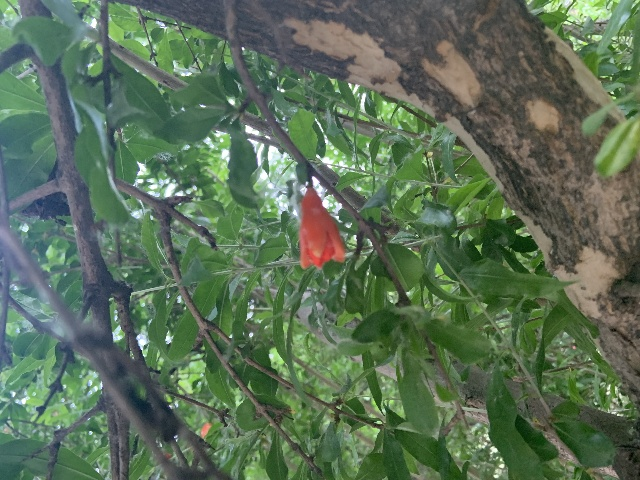bud: (201, 422, 212, 438)
flower: (296, 186, 346, 270)
